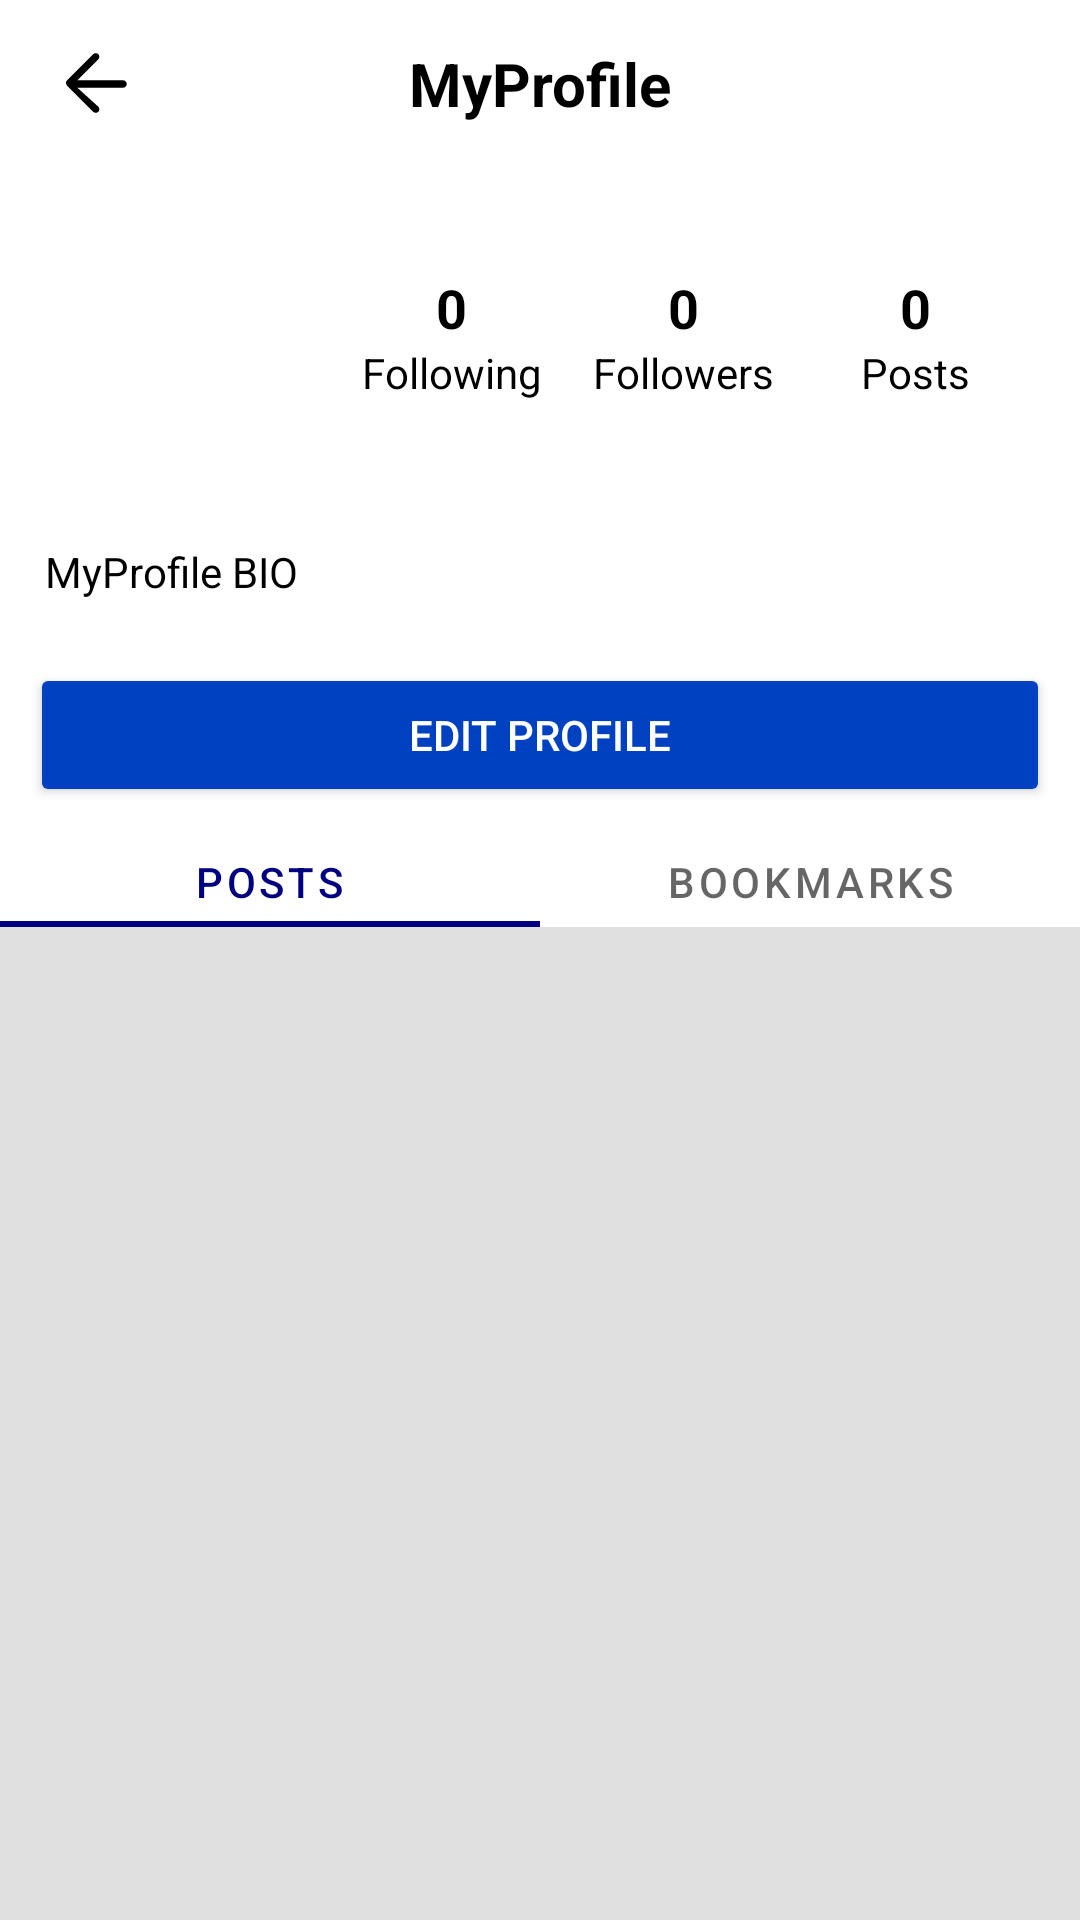

Icon bounding boxes for this 1080px x 1920px phone screenshot, format (x1, y1, x2, y2):
arrow back: (66, 53, 127, 113)
